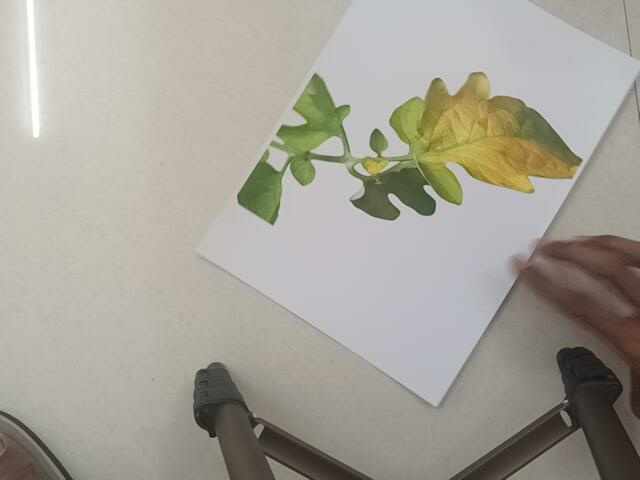Tomamto_Yellow_Disease: (245, 62, 583, 223)
